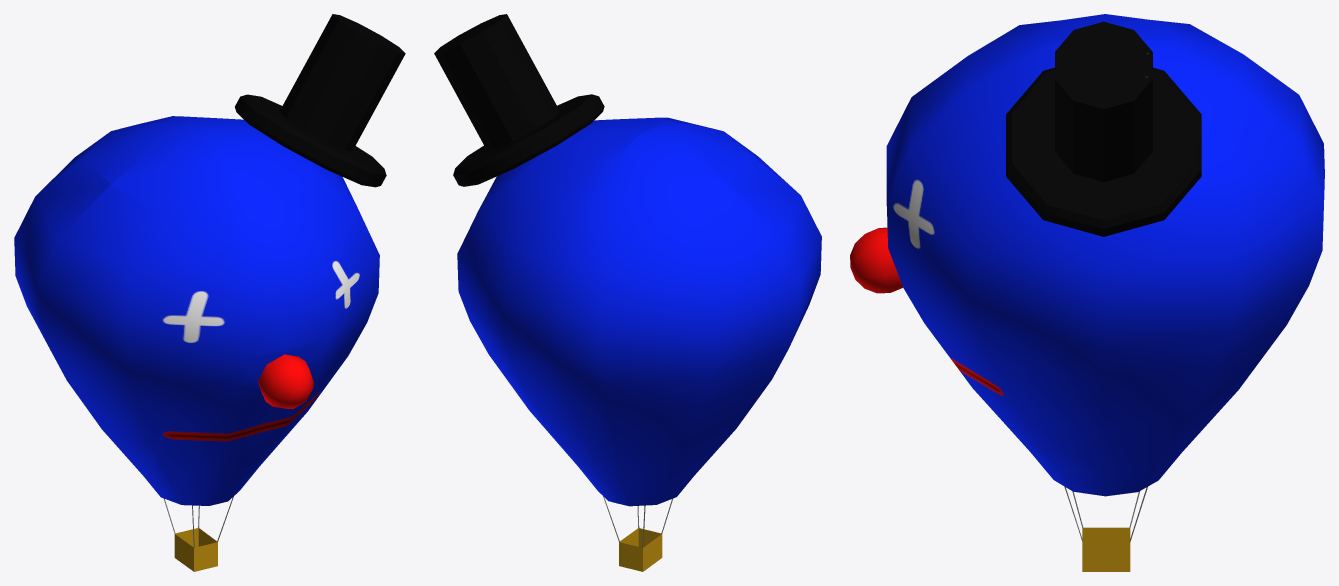
Rendered from SurroundingEnvironment_ClownHotAirBalloon.fbx.
3 views of the same model, side by side, from view 1: azimuth 30°, elevation 25°; view 2: azimuth 150°, elevation 25°; view 3: azimuth 270°, elevation 25° (orthographic). The views are drawn at different scales.
Visible parts, largest first — view 1: ClownHotAirBalloon; view 2: ClownHotAirBalloon; view 3: ClownHotAirBalloon.
Part boxes in pixels (x1,y1,x2,y2): ClownHotAirBalloon: (14, 14, 405, 571); ClownHotAirBalloon: (434, 14, 821, 571); ClownHotAirBalloon: (850, 14, 1324, 571).
Bounding box in the file's own units: 24970 × 33660 × 23052.
